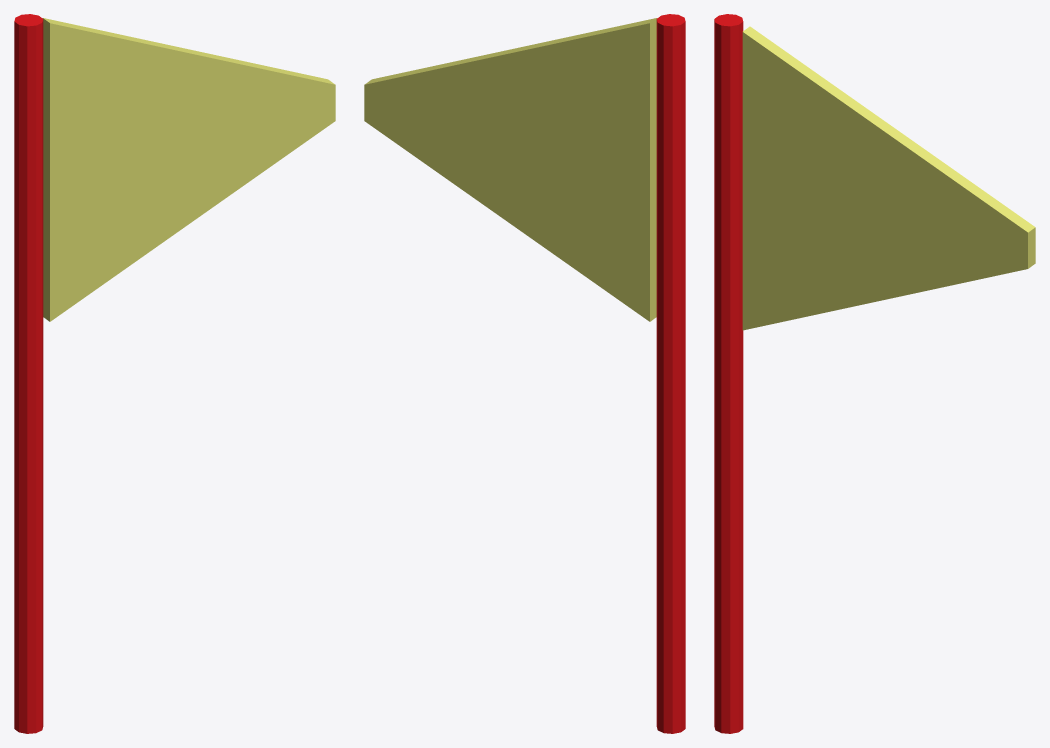
Rendered from flag2.fbx.
3 renders of one model, left to right at view 1: azimuth 30°, elevation 25°; view 2: azimuth 150°, elevation 25°; view 3: azimuth 330°, elevation 25°, orthographic.
Visible parts, largest first — view 1: flagpole; view 2: flagpole; view 3: flagpole.
Part boxes in pixels (box(x1,y1,x2,y2)): flagpole: box(14, 14, 335, 733); flagpole: box(364, 14, 685, 733); flagpole: box(714, 14, 1035, 733).
Bounding box in the file's own units: 2.21 × 4.74 × 0.1791.
